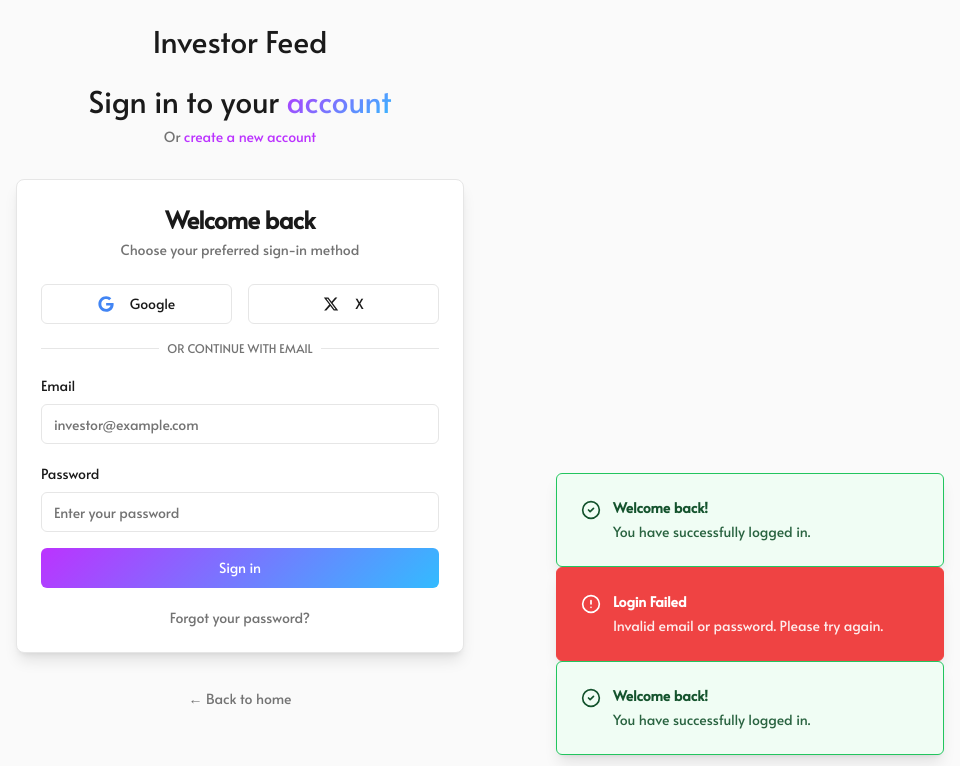
Scenario: Login Page › should handle network errors
The image size is (960, 766).
Type "test@example.com" into the field labelled "Email". click: (240, 424)
box: [41, 404, 439, 444]
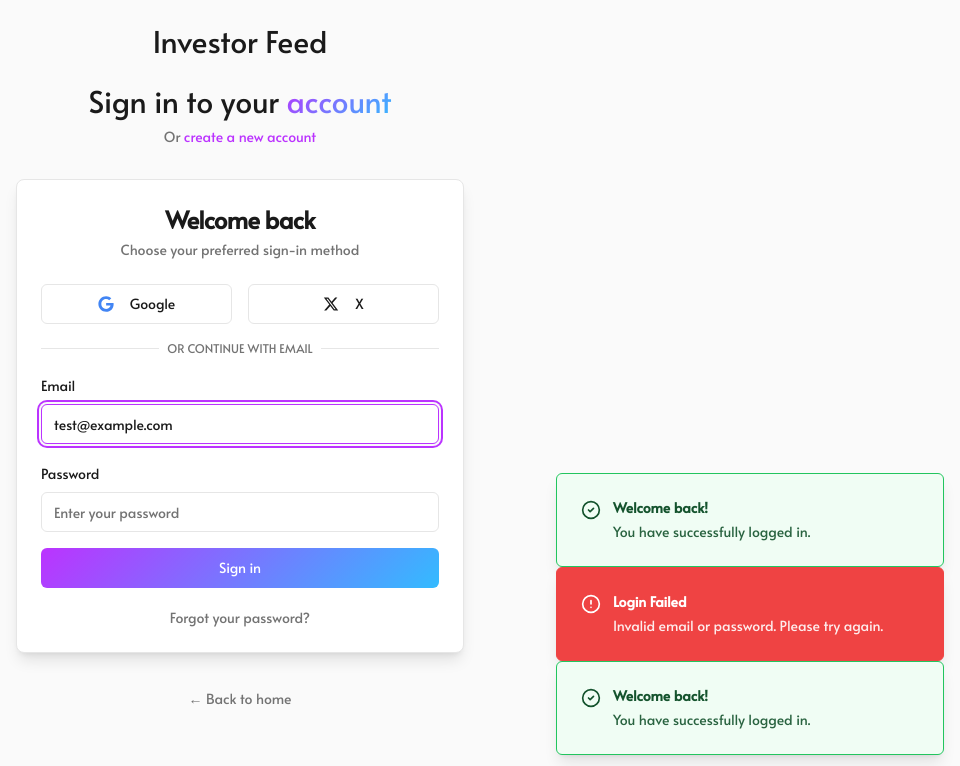
Type "Test123!" into the password field labelled "Password". click: (240, 512)
box: [41, 492, 439, 532]
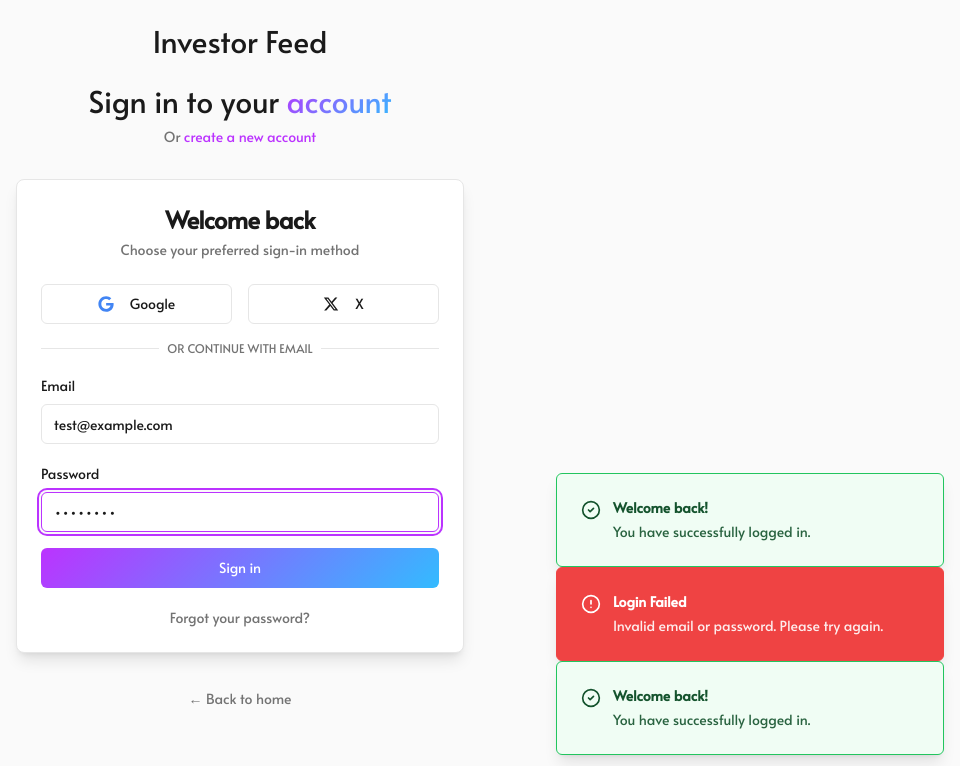
Click the button "Sign in". click: (240, 568)
box: [41, 548, 439, 588]
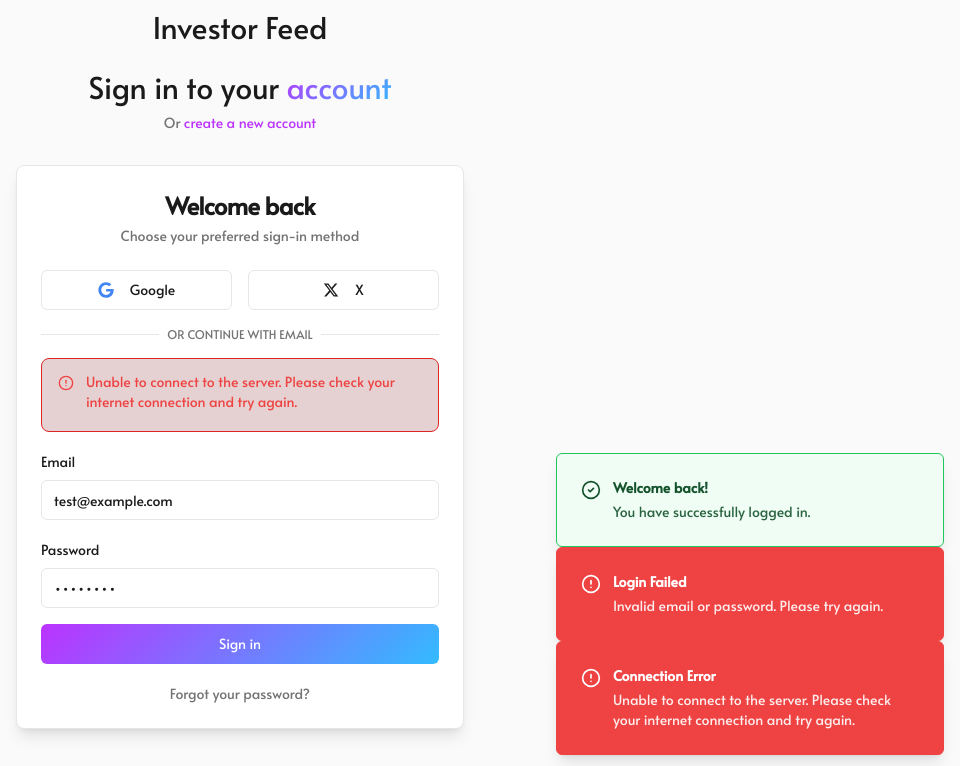
Result: the message is shown at [41, 358, 439, 432]
